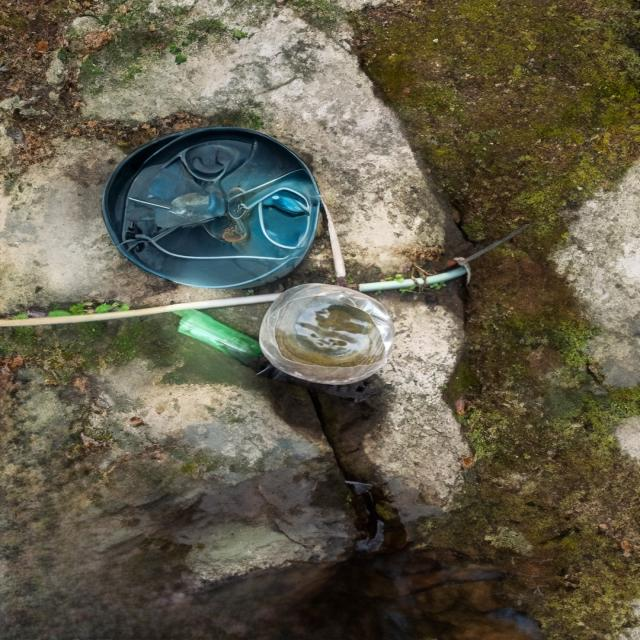Breeding Place: (80, 118, 338, 306), (235, 273, 404, 403)
